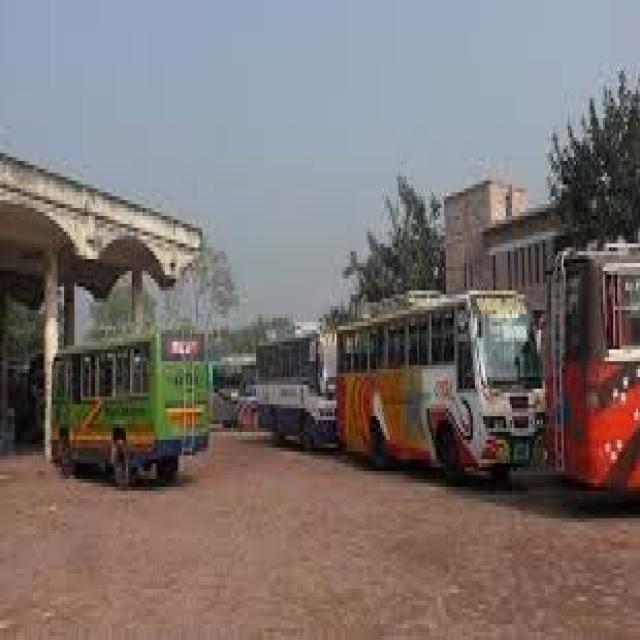bus: (338, 280, 549, 495), (47, 319, 211, 495), (550, 216, 640, 527), (246, 310, 341, 452)
